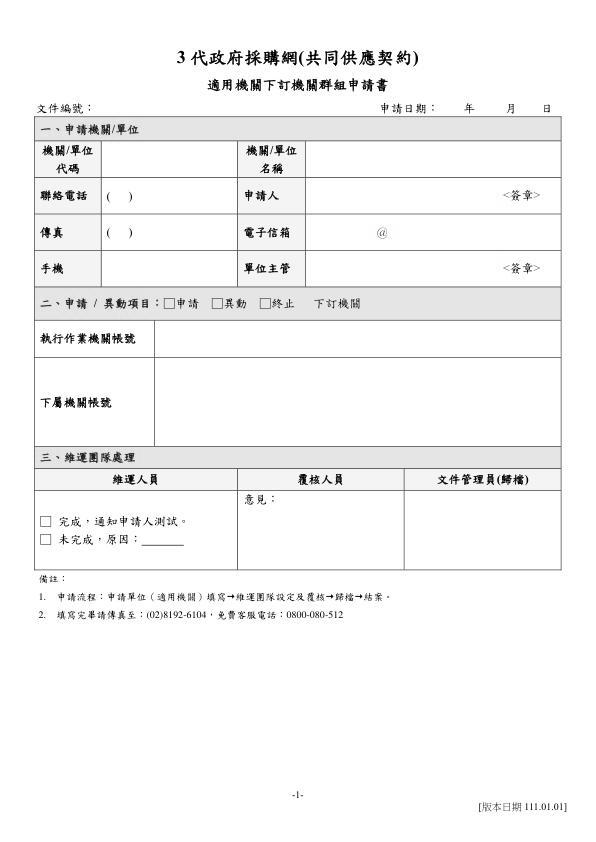table: (32, 114, 566, 572)
text: (36, 588, 393, 624), (173, 45, 422, 68), (203, 77, 394, 94), (378, 100, 555, 114), (33, 100, 94, 114), (35, 573, 68, 586)
